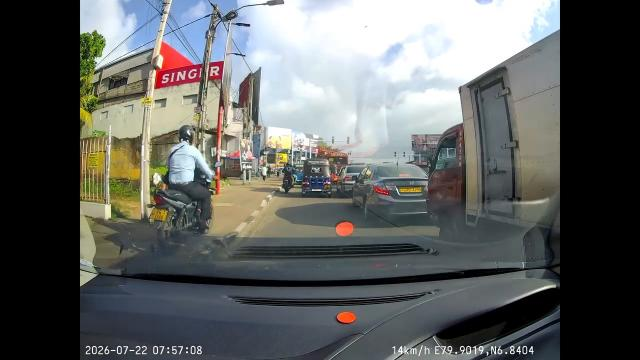illegal overtaking: (143, 126, 229, 250)
number plate: (149, 204, 174, 223)
